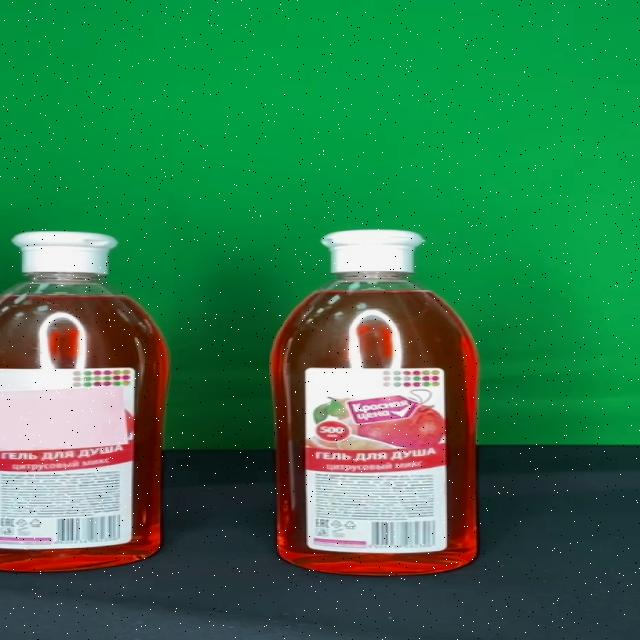Bottle: (270, 229, 482, 575), (0, 232, 170, 572)
Cap: (10, 232, 116, 275), (320, 230, 424, 273)
